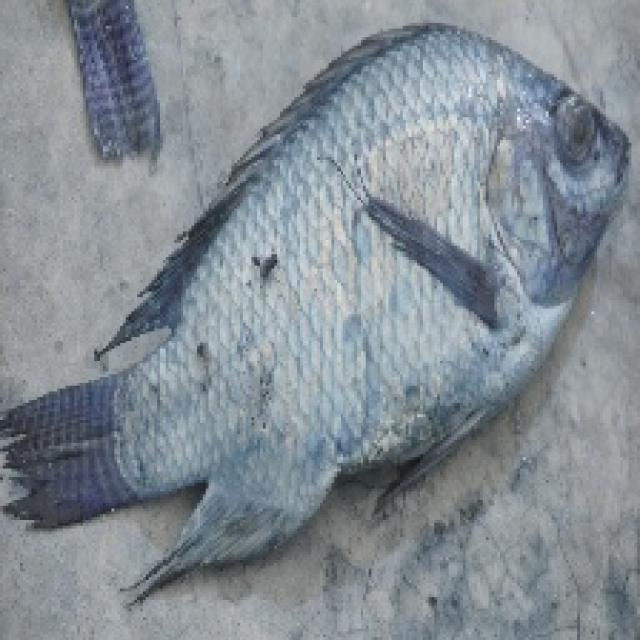Non-Fresh: (187, 9, 637, 477)
